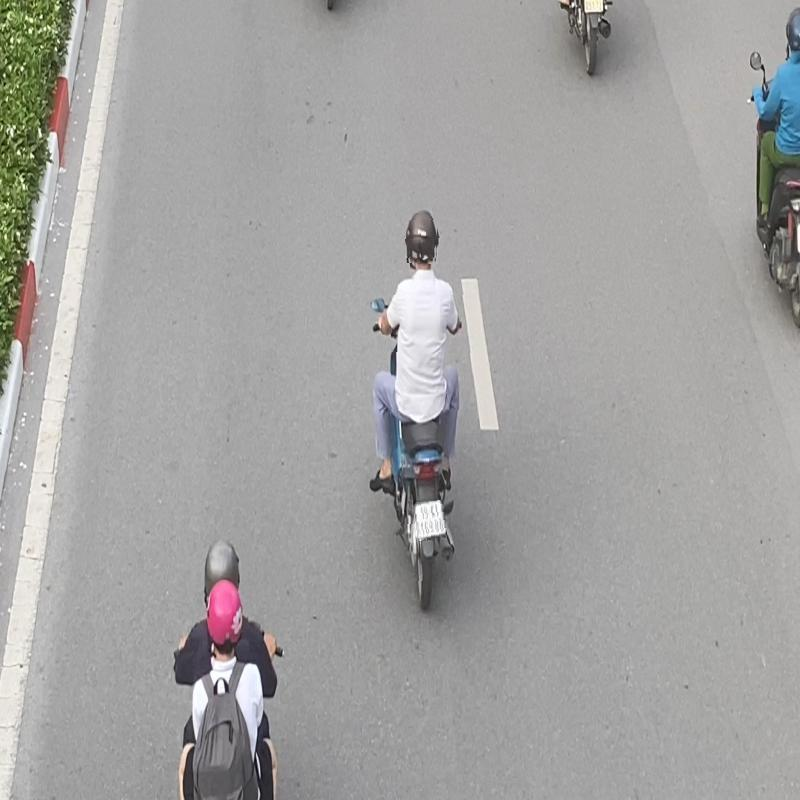helmet: (404, 214, 436, 264)
licenseplate: (414, 501, 445, 540)
motorcyclist: (363, 205, 475, 614)
